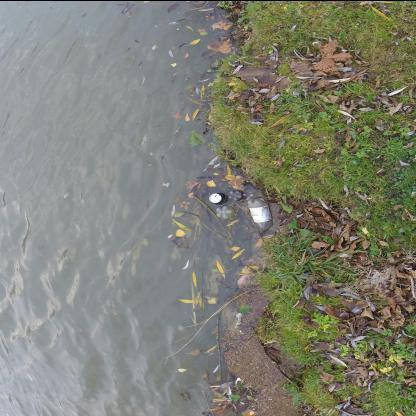metal: (210, 193, 227, 205)
plastik: (249, 198, 273, 232), (217, 206, 236, 220), (230, 190, 246, 202)
